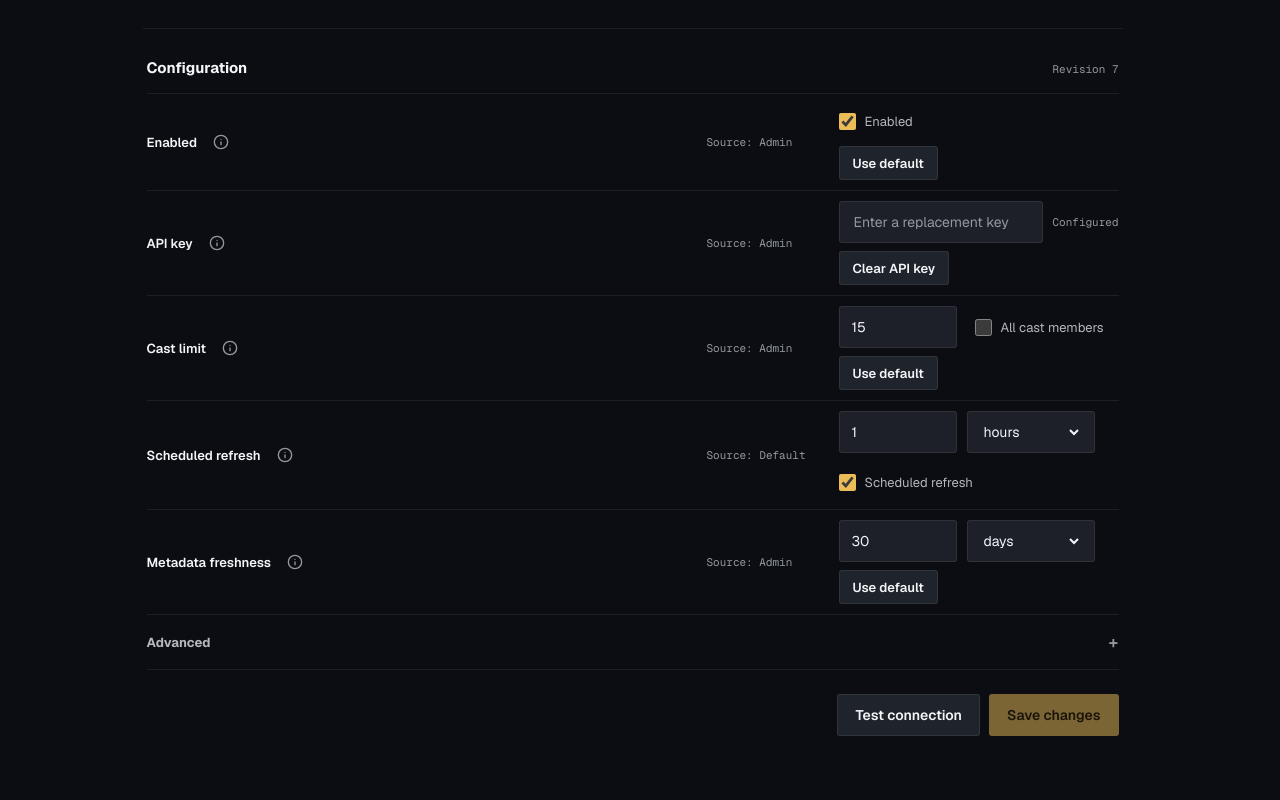
TMDB Admin settings › renders typed effective values, sources, and truthful status gaps
The width and height of the screenshot is (1280, 800).
Expected: the heading "Configuration" is shown, [146,57,247,79]
Expected: the checkbox labelled "Enabled" is checked, [838,113,856,130]
Click the heading "Advanced" at (178, 642), box [146,634,210,651]
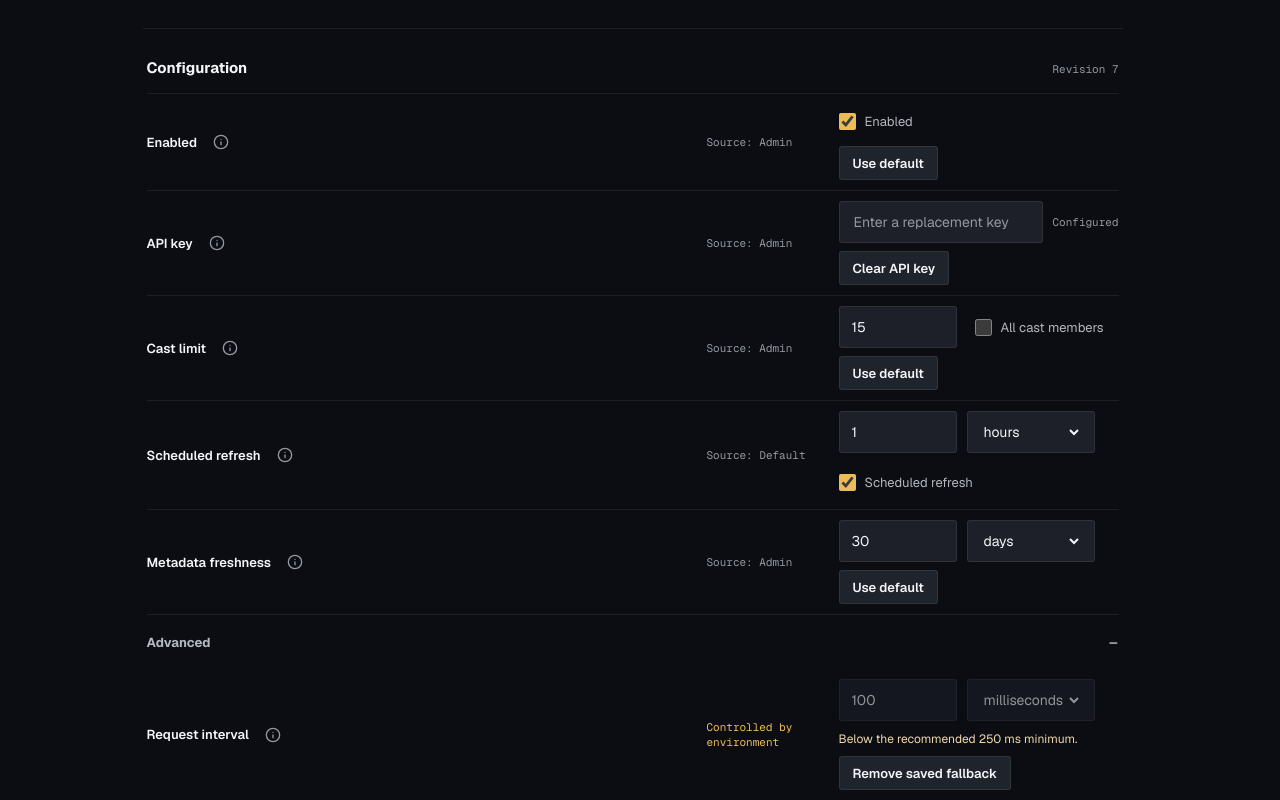
Expected: the text "Controlled by environment" is shown, [706,720,792,749]
Expected: the text "Below the recommended 250 ms minimum." is shown, [838,730,1118,748]
